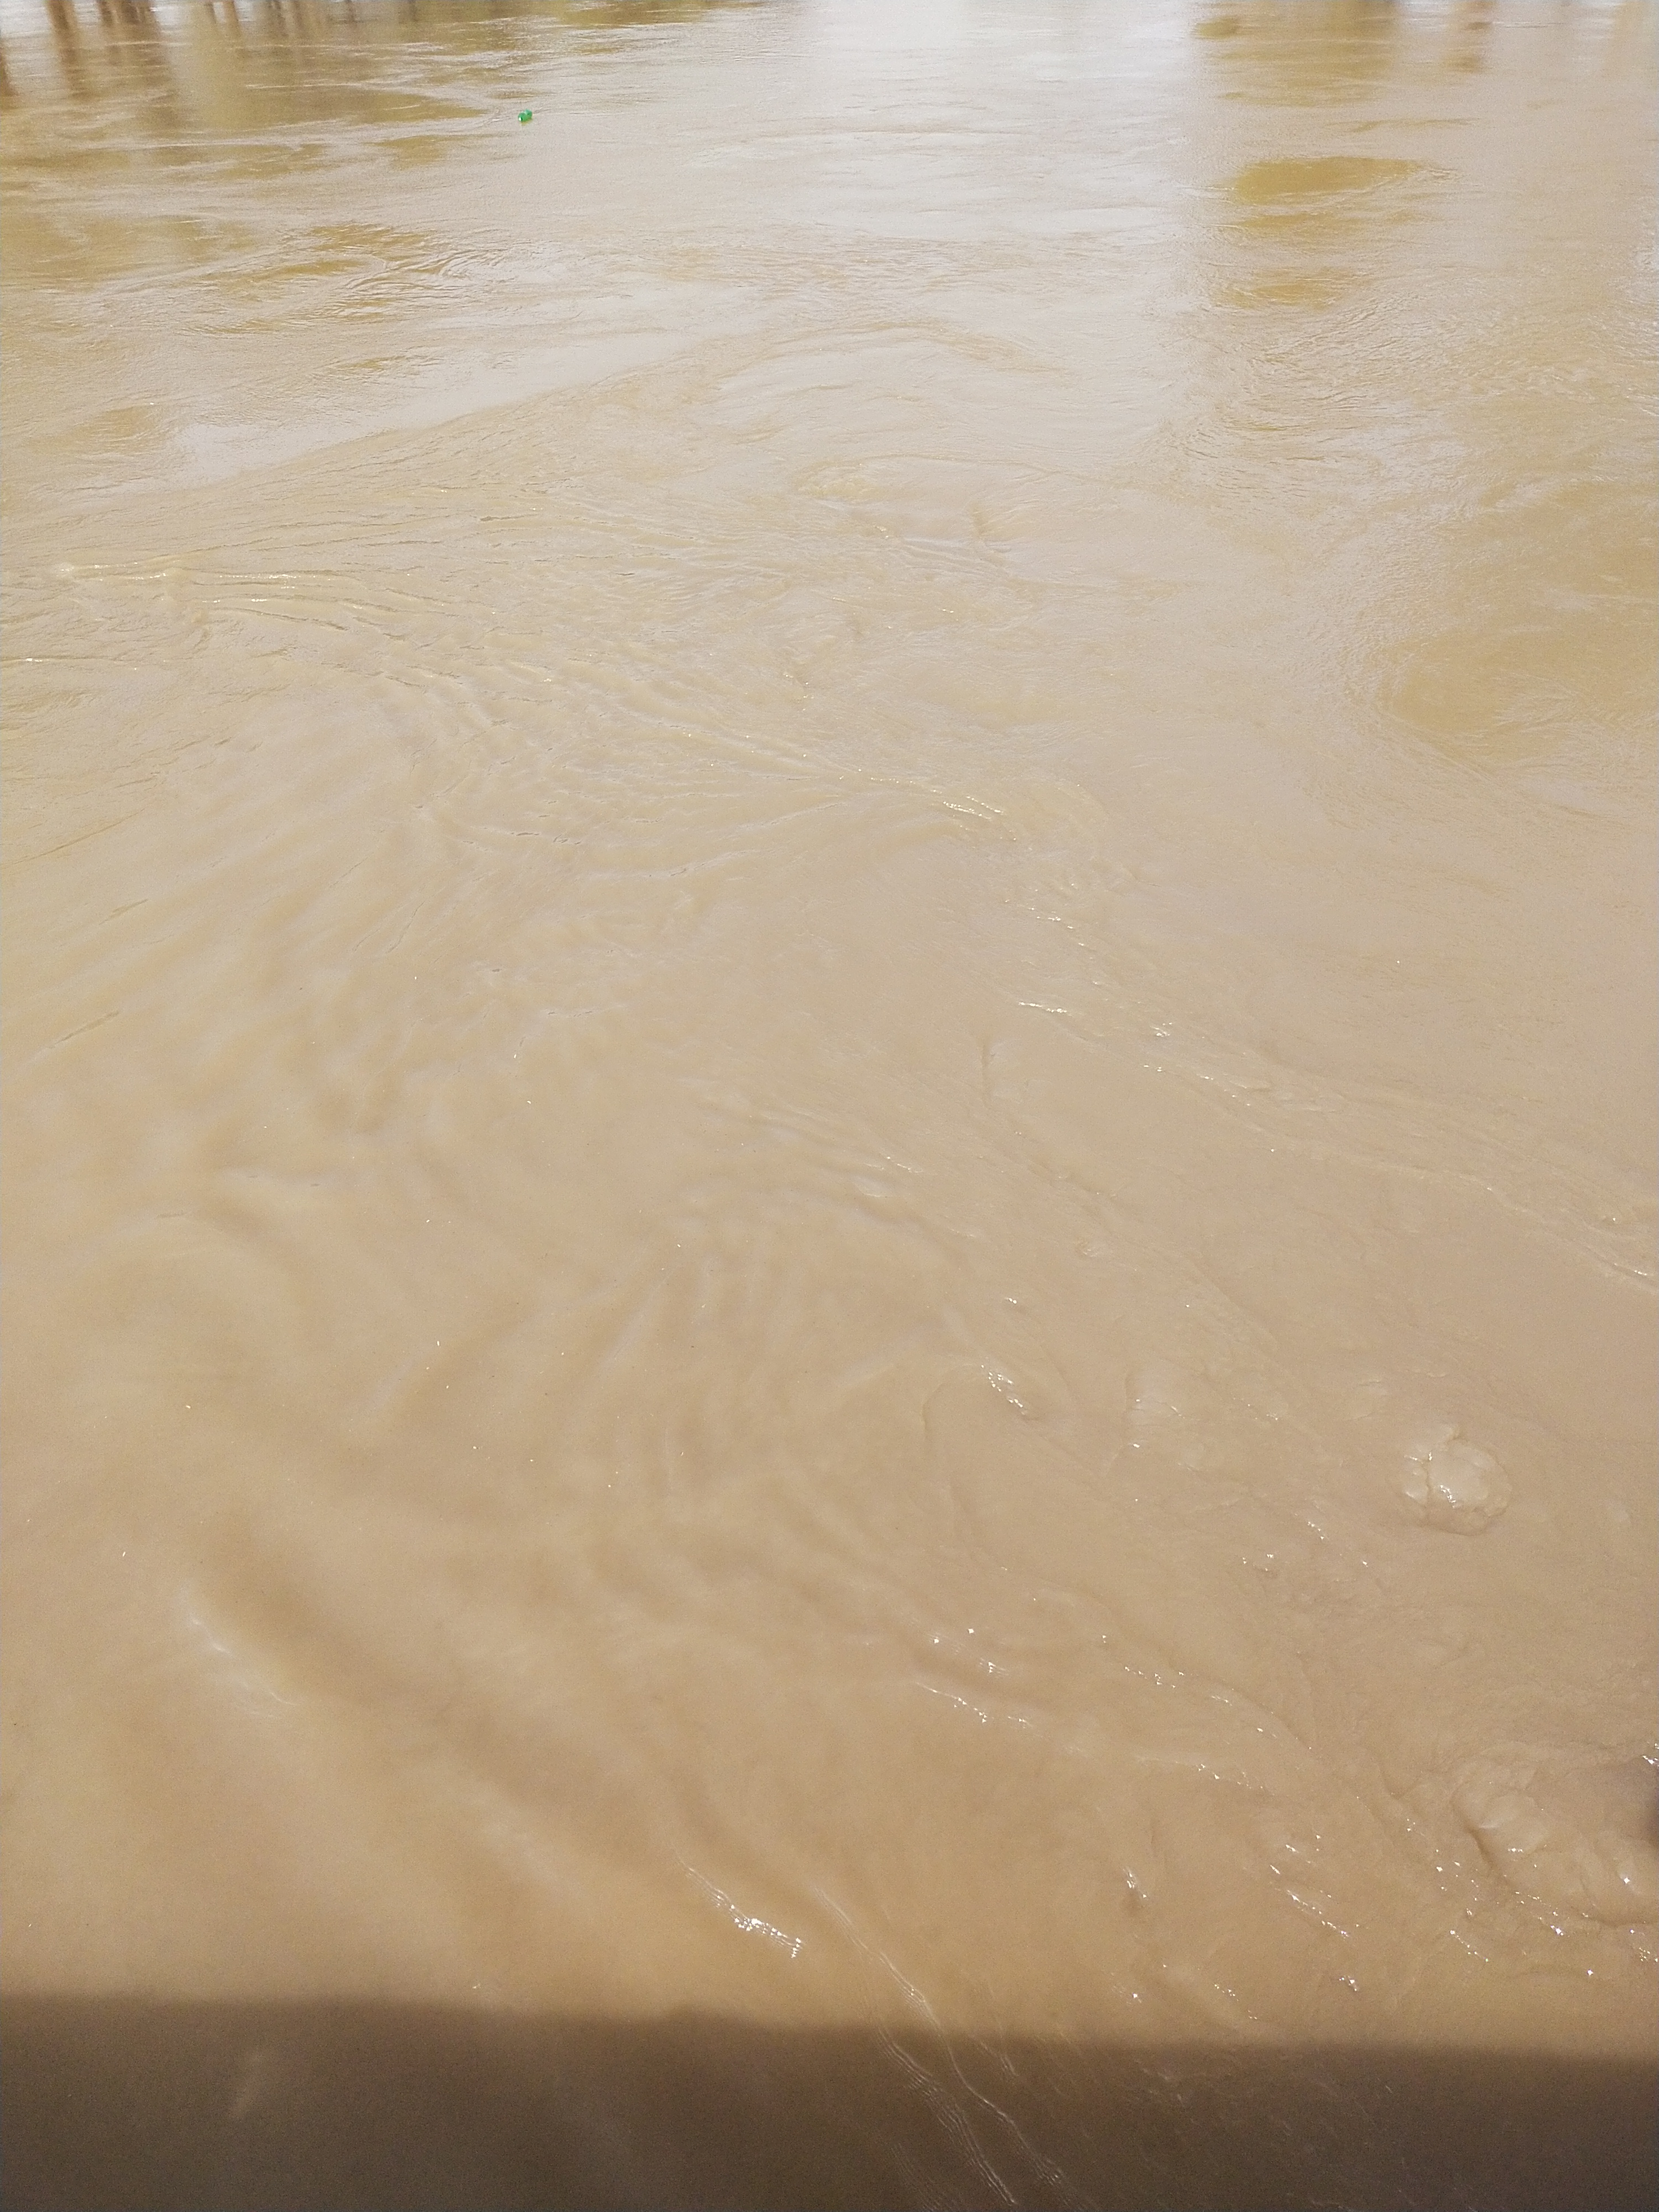Plastic Bottle: (518, 110, 532, 120)
